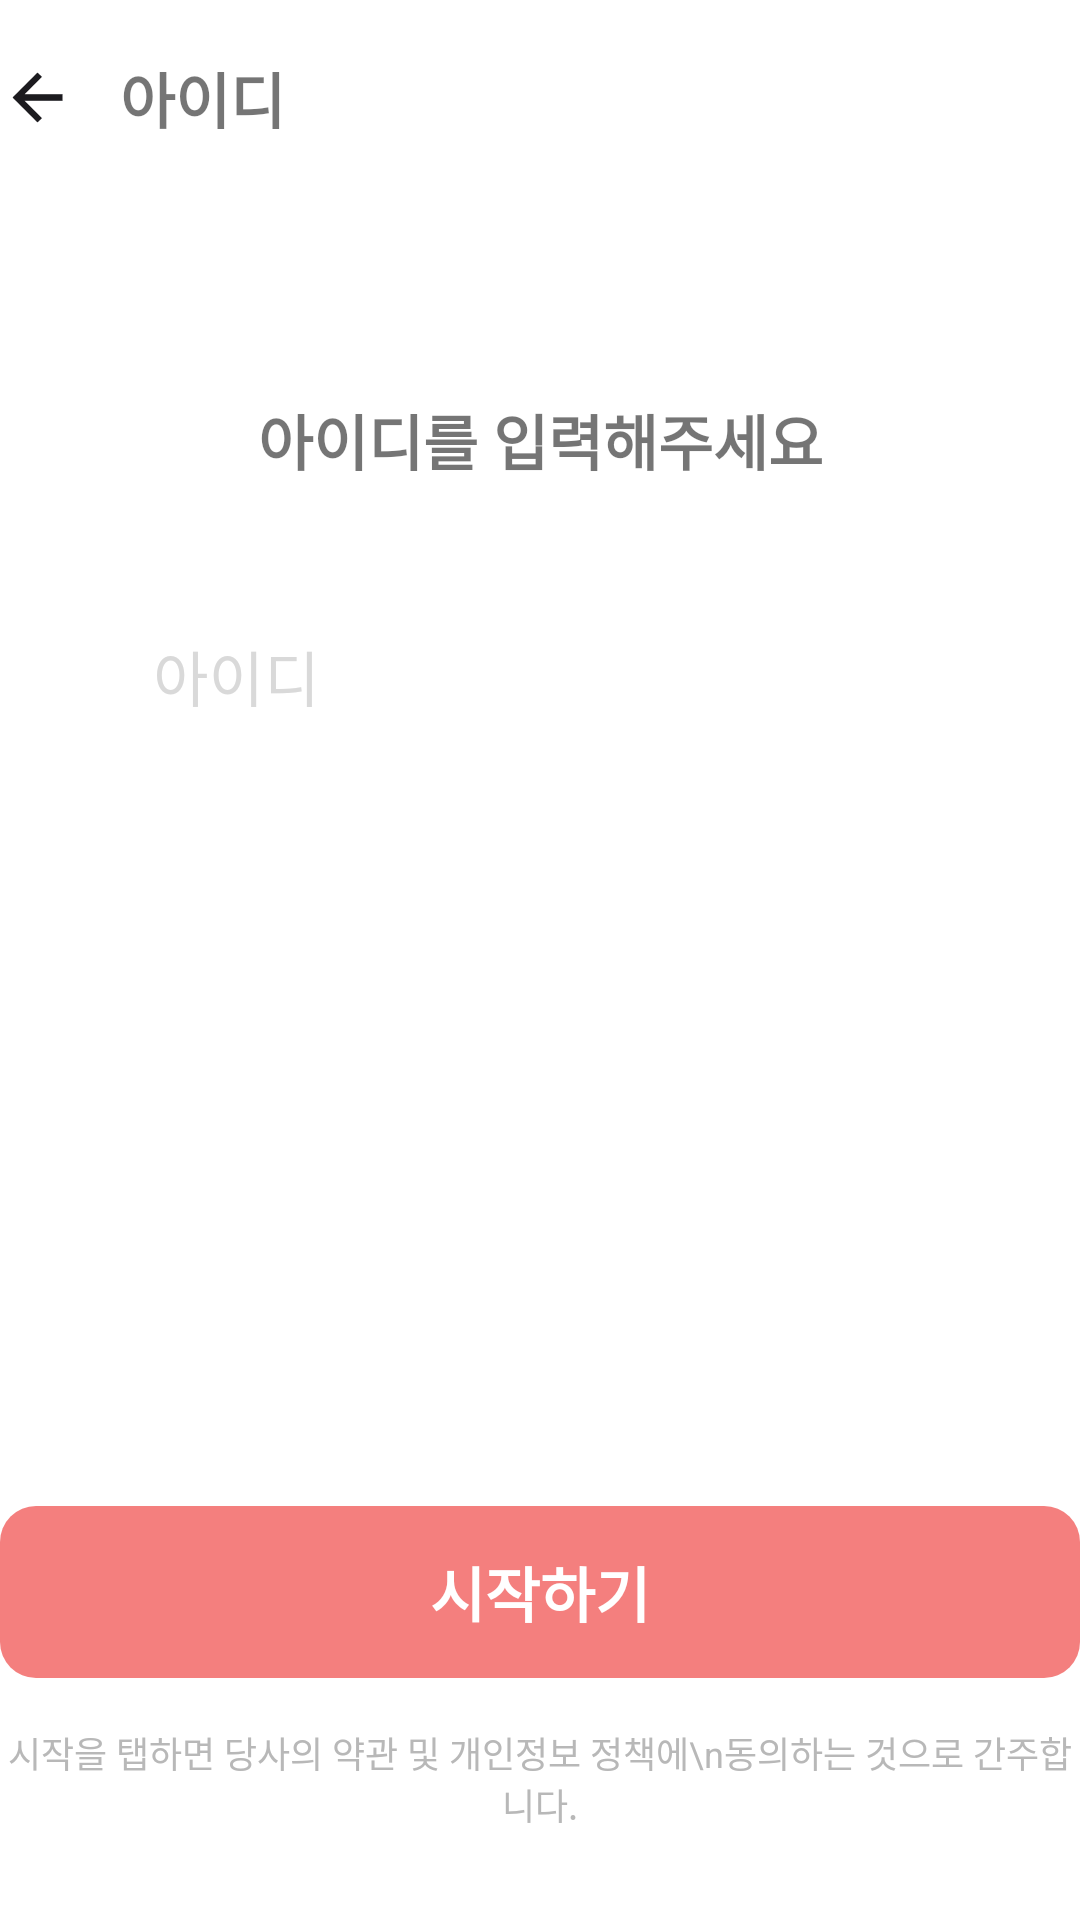

Screen size 1080×1920. Icon name, then its box in pixels as (x1, y1, x2, y2):
back: (12, 72, 63, 123)
